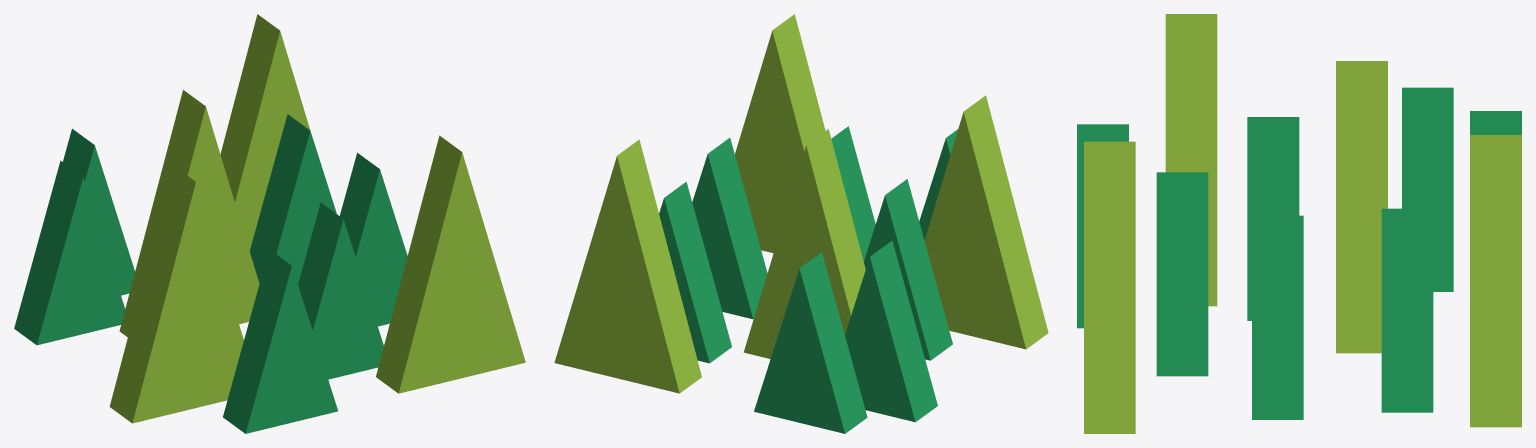
The model's file is Grass1.fbx.
3 renders of one model, left to right at view 1: azimuth 30°, elevation 25°; view 2: azimuth 150°, elevation 25°; view 3: azimuth 270°, elevation 25°, orthographic. The views are drawn at different scales.
Visible parts, largest first — view 1: pCube3; view 2: pCube3; view 3: pCube3.
Part boxes in pixels (left/top/right/bottom): pCube3: left=14, top=14, right=525, bottom=433; pCube3: left=554, top=14, right=1048, bottom=433; pCube3: left=1077, top=14, right=1521, bottom=433.
Size of the model in its own units: 95.73 by 57.85 by 90.75.
